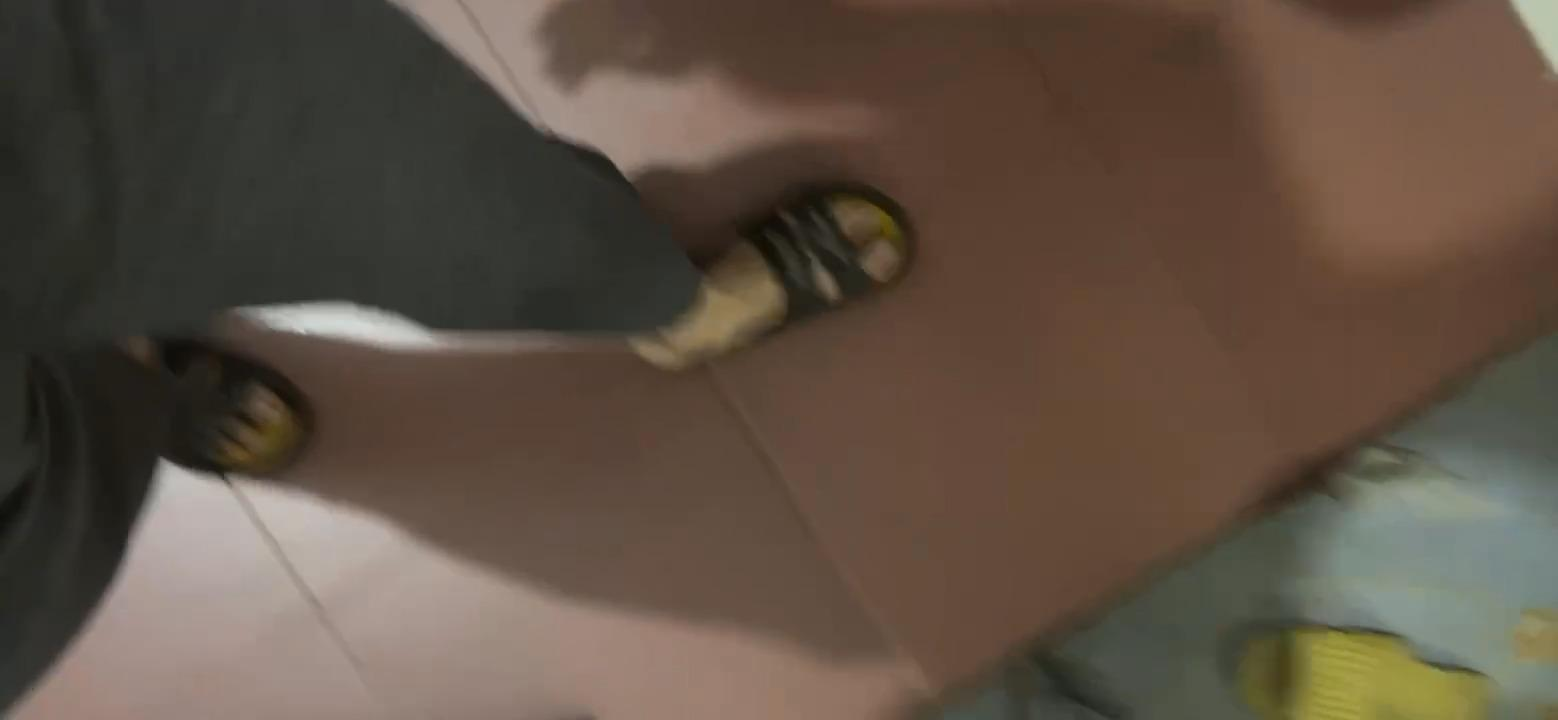no-boot: (643, 173, 920, 355), (129, 327, 320, 484)
